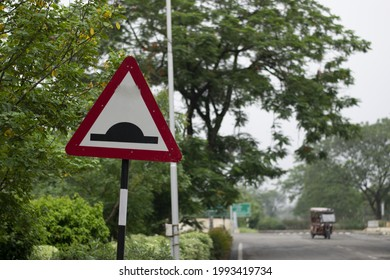speed-breaker: (75, 69, 173, 157)
